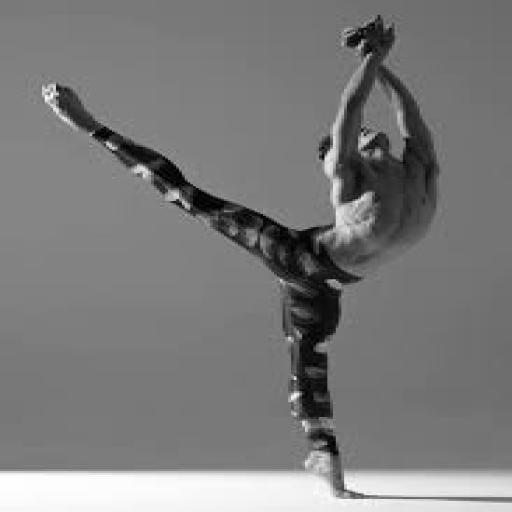dancing: (36, 13, 445, 501)
